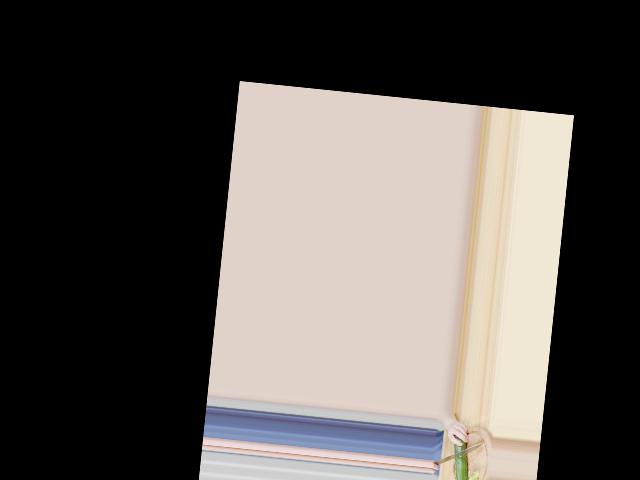cucumber: (449, 435, 471, 480)
